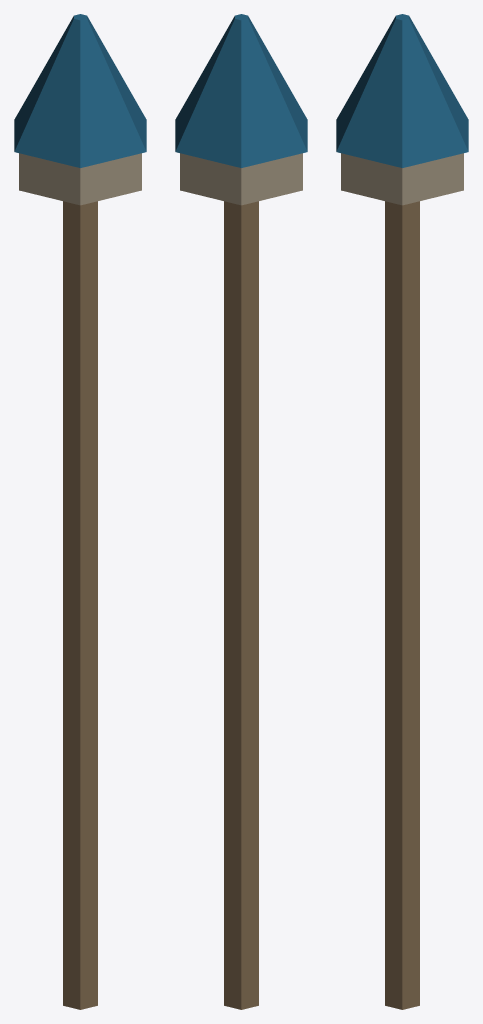
File: Pawn_Staff.fbx
3 views of the same model, side by side, from view 1: azimuth 90°, elevation 25°; view 2: azimuth 150°, elevation 25°; view 3: azimuth 270°, elevation 25° (orthographic).
Visible parts, largest first — view 1: Pawn_Staff; view 2: Pawn_Staff; view 3: Pawn_Staff.
Boxes of the visible parts, x1,y1,x2,y2 form: Pawn_Staff: (14, 14, 146, 1009); Pawn_Staff: (175, 14, 307, 1009); Pawn_Staff: (336, 14, 468, 1009).
Size of the model in its own units: 0.28 by 1.99 by 0.2425.
